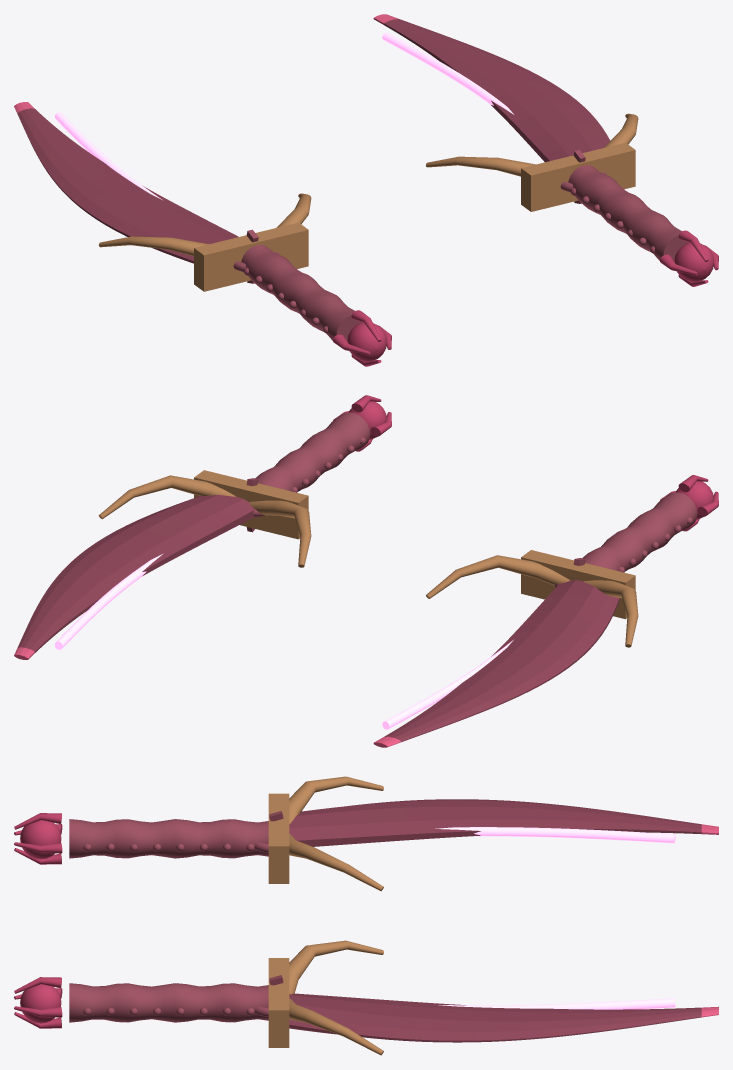
File: art_bloodthirst_twinblades.fbx
3 views of the same model, one above another, from view 1: azimuth 30°, elevation 25°; view 2: azimuth 150°, elevation 25°; view 3: azimuth 270°, elevation 25° (orthographic). The views are drawn at different scales.
Visible parts, largest first — view 1: Blade, BladeL, CrossguardL, Crossguard, HandleL, Handle, PommelL, Pommel, RuneInlay, RuneInlayL; view 2: BladeL, Blade, Crossguard, CrossguardL, Handle, HandleL, RuneInlay, PommelL, Pommel, RuneInlayL; view 3: Blade, BladeL, Handle, HandleL, Crossguard, CrossguardL, RuneInlayL, Pommel, PommelL, RuneInlay.
Part boxes in pixels (x1,y1,x2,y2): Blade: (384, 19, 610, 162); BladeL: (17, 108, 238, 263); CrossguardL: (99, 193, 311, 291); Crossguard: (426, 113, 638, 211); HandleL: (233, 229, 361, 340); Handle: (560, 150, 689, 260); PommelL: (332, 310, 391, 366); Pommel: (659, 230, 718, 286); RuneInlay: (382, 32, 513, 114); RuneInlayL: (54, 112, 162, 199); BladeL: (384, 580, 619, 741); Blade: (17, 494, 254, 652); Crossguard: (98, 470, 311, 567); CrossguardL: (426, 550, 638, 647); Handle: (246, 412, 370, 532); HandleL: (555, 492, 697, 587); RuneInlay: (54, 553, 163, 649); PommelL: (660, 475, 718, 531); Pommel: (333, 395, 391, 451); RuneInlayL: (382, 640, 513, 729); Blade: (289, 993, 701, 1042); BladeL: (289, 799, 701, 846); Handle: (69, 975, 294, 1022); HandleL: (69, 811, 283, 858); Crossguard: (268, 940, 383, 1055); CrossguardL: (268, 776, 383, 891); RuneInlayL: (435, 827, 675, 843); Pommel: (14, 977, 62, 1028); PommelL: (14, 813, 62, 864); RuneInlay: (438, 998, 675, 1009).
Bounding box in the file's own units: 244 × 22.77 × 272.
